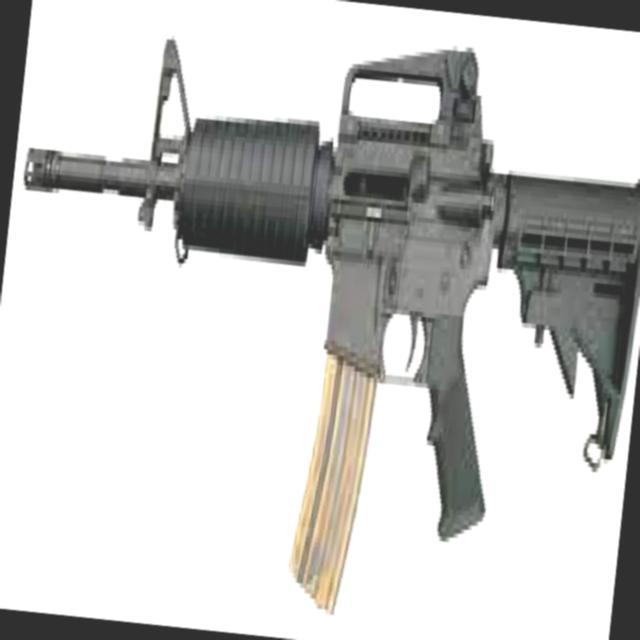m16: (0, 0, 452, 618)
